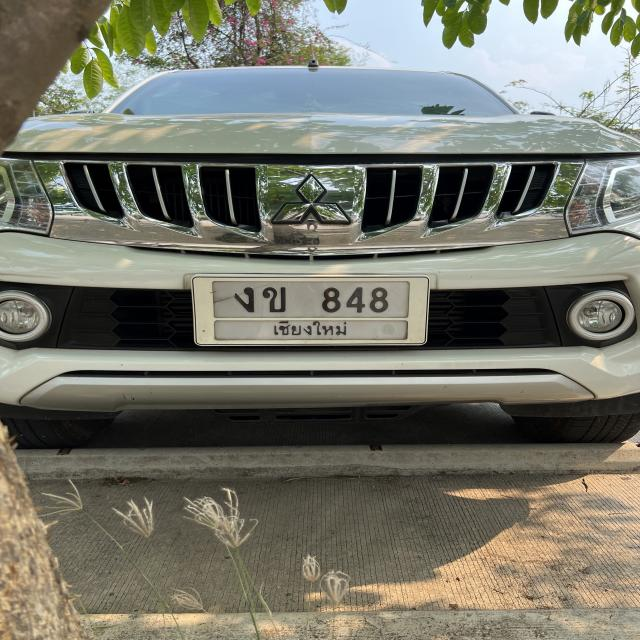license_plate: (190, 272, 431, 350)
